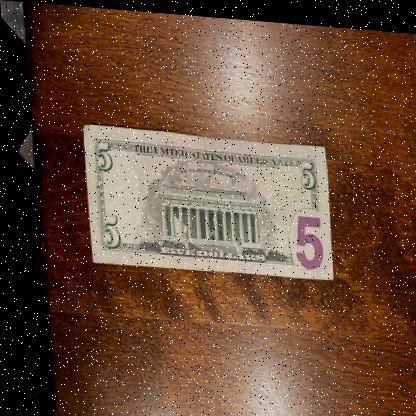five-back: (79, 122, 331, 277)
